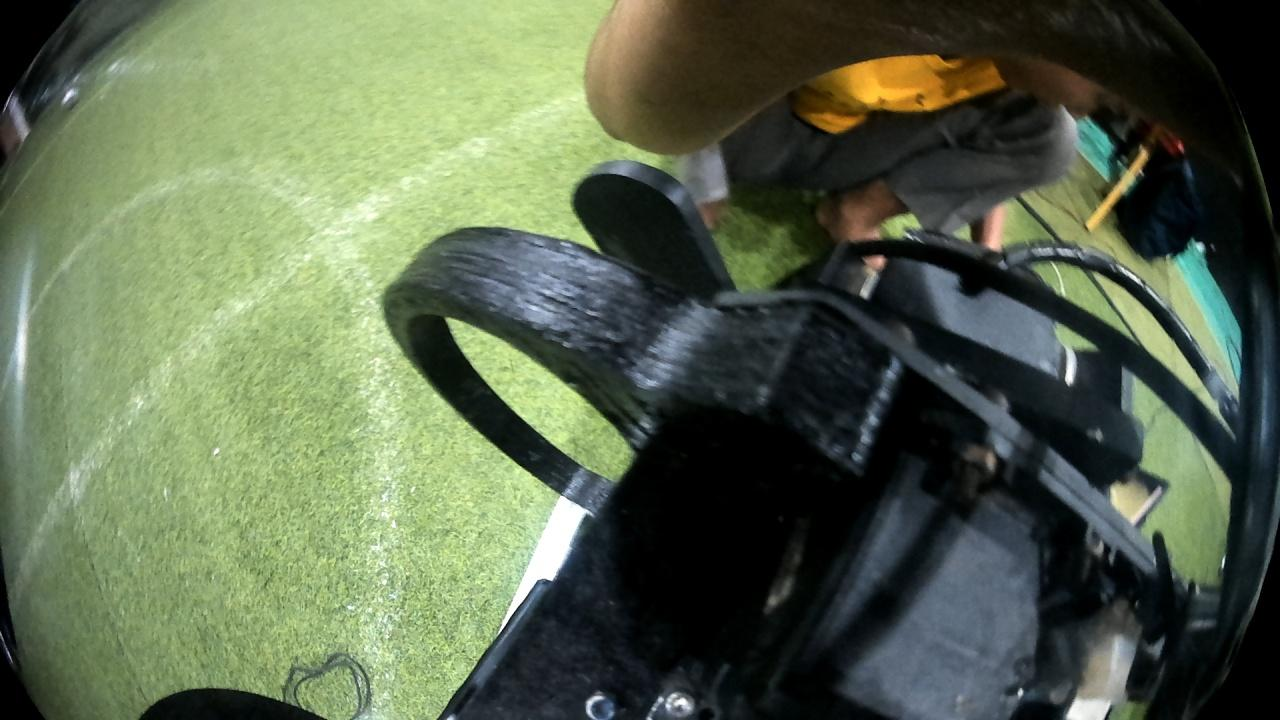ball: (61, 87, 81, 108)
